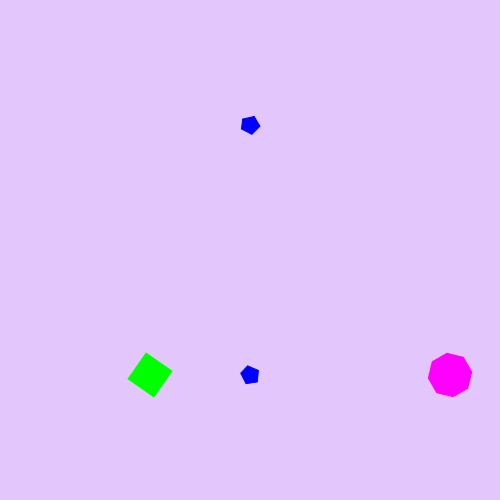octagon: (424, 349, 476, 401)
pentagon: (236, 111, 264, 139), (236, 361, 264, 389)
quadrilateral: (124, 349, 176, 401)
